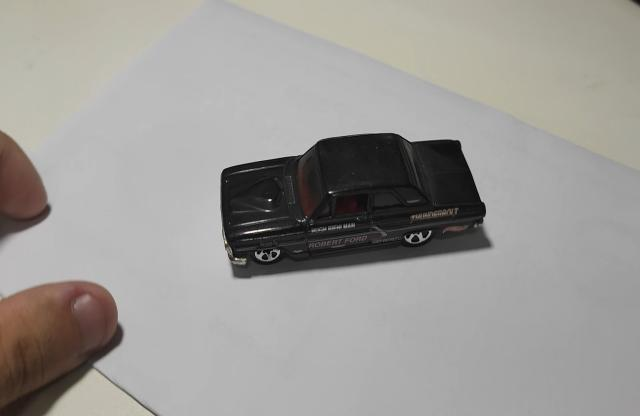01_FORD: (220, 133, 491, 281)
